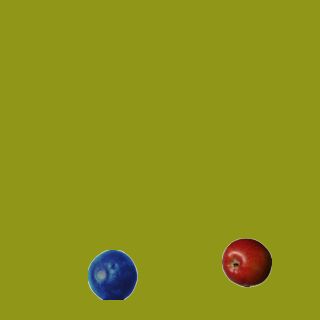Apple Braeburn: (221, 237, 271, 287)
Huckleberry: (87, 249, 137, 299)
